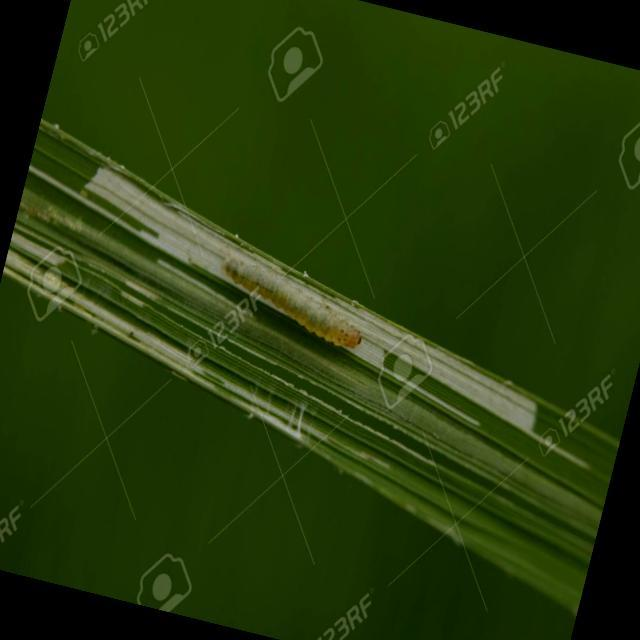leaf folder: (223, 259, 360, 349)
